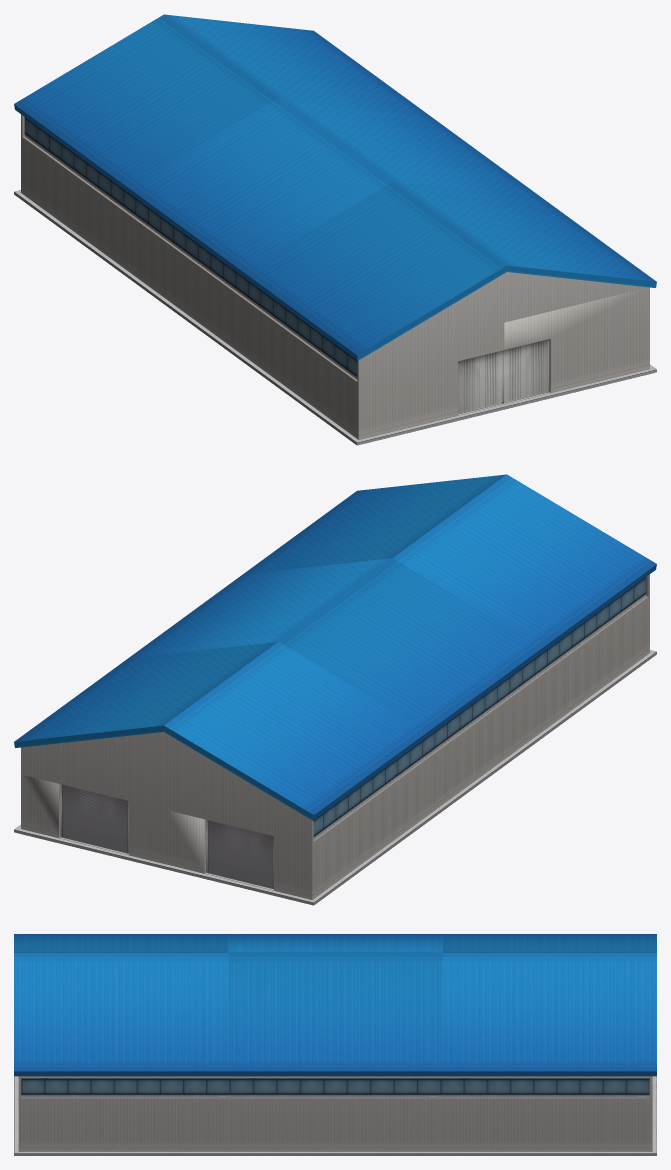
3 renders of one model, top to bottom at view 1: azimuth 30°, elevation 25°; view 2: azimuth 150°, elevation 25°; view 3: azimuth 270°, elevation 25°, orthographic. The views are drawn at different scales.
Visible parts, largest first — view 1: MainBuilding; view 2: MainBuilding; view 3: MainBuilding.
Boxes of the visible parts, x1=… form: MainBuilding: x1=14, y1=14, x2=656, y2=445; MainBuilding: x1=14, y1=474, x2=656, y2=905; MainBuilding: x1=14, y1=934, x2=656, y2=1155.
Size of the model in its own units: 2.59 by 1.18 by 5.13.
1 material, 1 textured.
